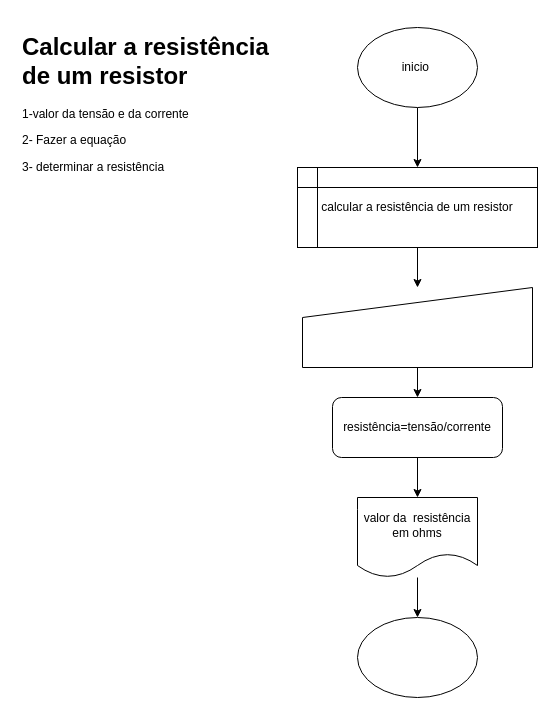
Some shapes in this 555 by 715 pixel diagram are drawn without their labels. The centre of each missing label's shape, as x and y in pixels:
final: the point at 417,657
valor da corrente e da tensão: the point at 417,327
